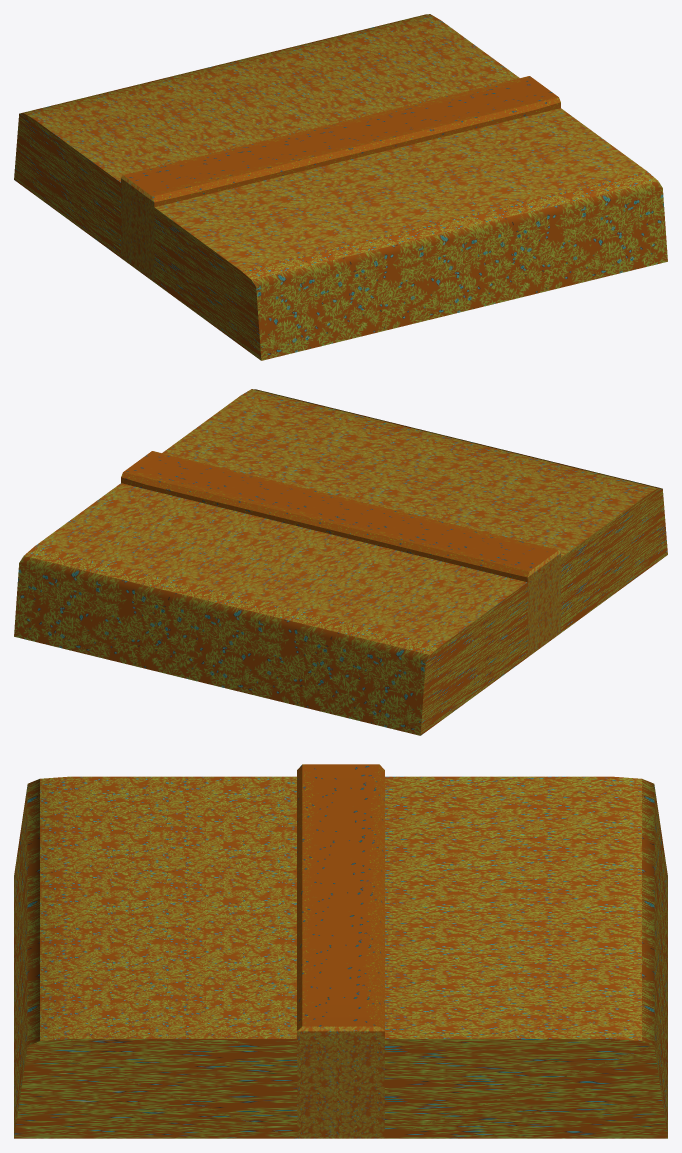
Rendered from wide t3st boi .fbx.
3 renders of one model, top to bottom at view 1: azimuth 30°, elevation 25°; view 2: azimuth 150°, elevation 25°; view 3: azimuth 270°, elevation 25°, orthographic. The views are drawn at different scales.
Visible parts, largest first — view 1: Mesh_Path_Straight2; view 2: Mesh_Path_Straight2; view 3: Mesh_Path_Straight2.
Part boxes in pixels (box(x1,y1,x2,y2)): Mesh_Path_Straight2: box(14, 14, 667, 360); Mesh_Path_Straight2: box(14, 389, 667, 735); Mesh_Path_Straight2: box(14, 764, 667, 1138).
Bounding box in the file's own units: 5623 × 1119 × 5926.
